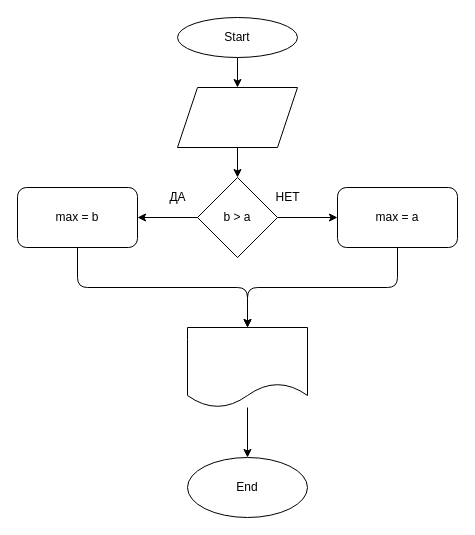
Some shapes in this 475 by 535 pixel diagram are drawn without their labels. Here are the shapes that lost their labels. From the top down, the centre of each, then its label:
(x=237, y=117): Ввод а Ввод b max = 0
(x=247, y=367): Вывод max
